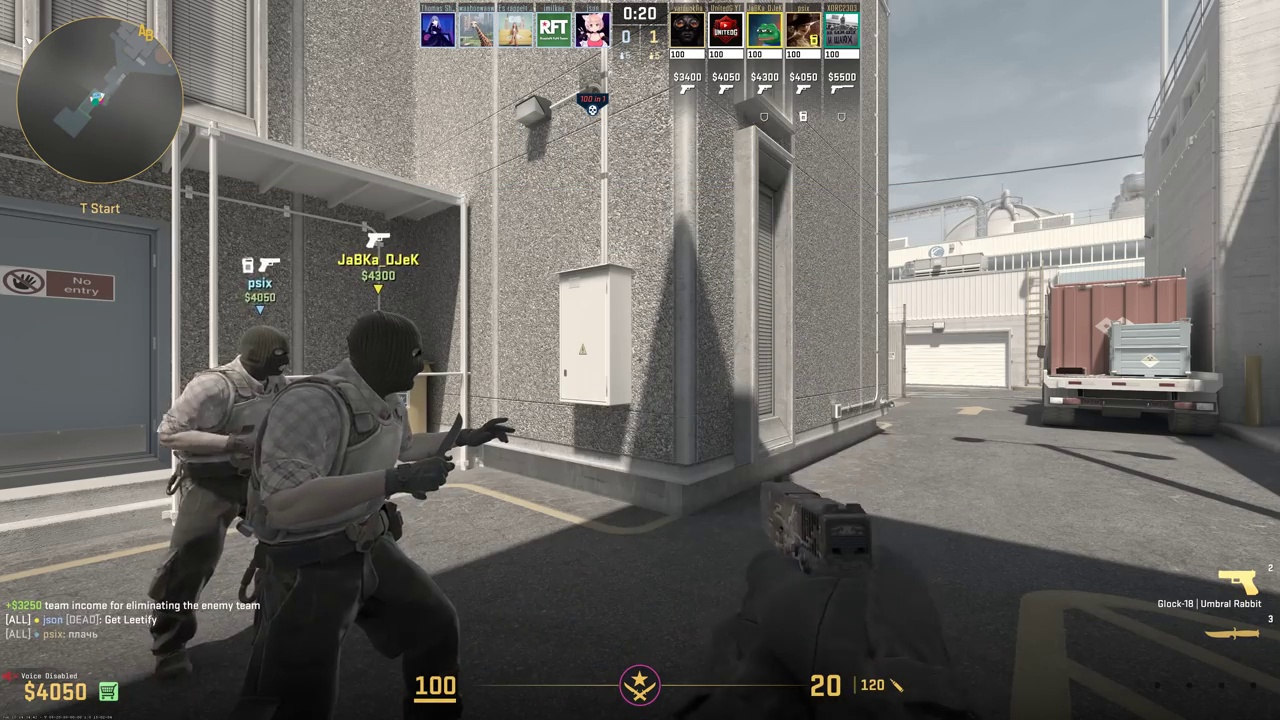Terrorist: (268, 313, 463, 716), (152, 326, 293, 677)
